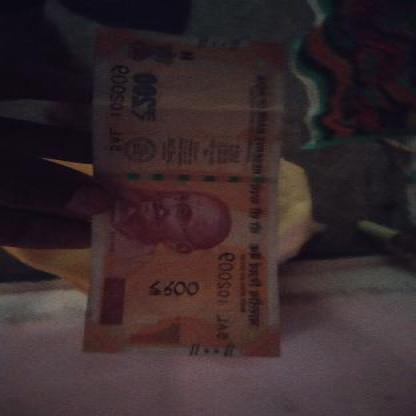New200Front: (82, 41, 284, 349)
